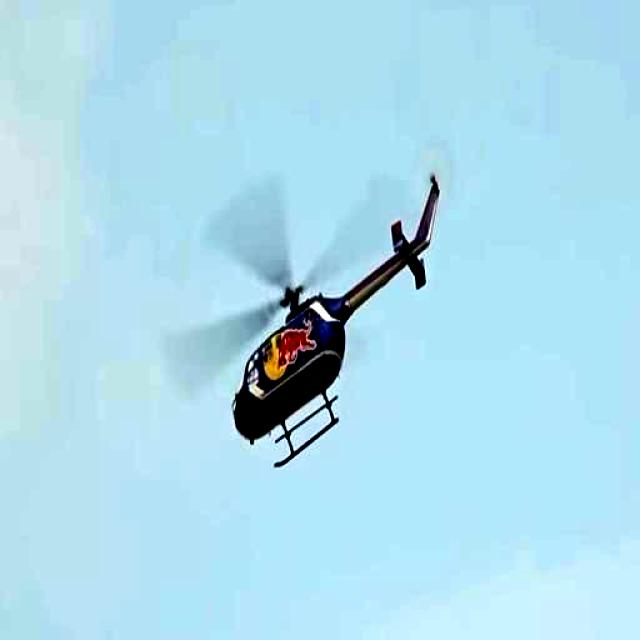drone: (195, 160, 451, 490)
